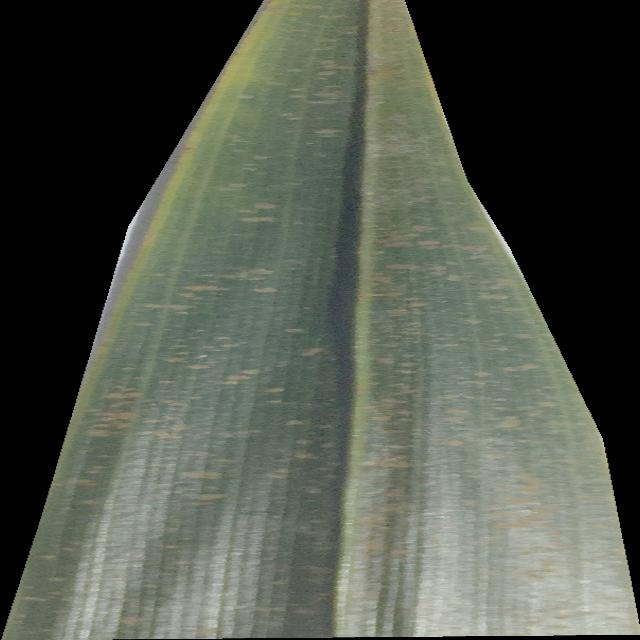Initial Infection: (1, 0, 640, 640)
